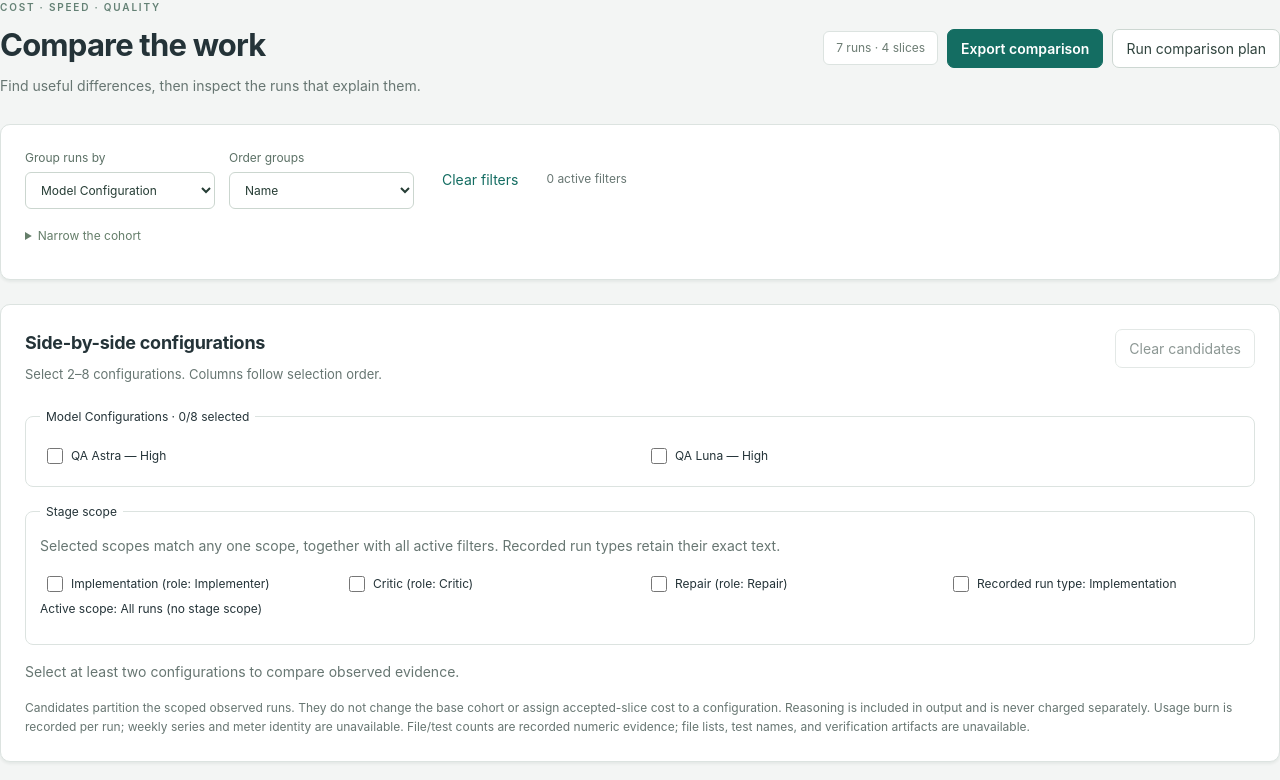
it: comparison UI uses shared cohort context › excludes nonmatching accepted slices, retains support cost, and exports the displayed context
Click the heading "Narrow the cohort": coordinates (89, 236) x1=38 y1=228 x2=141 y2=243
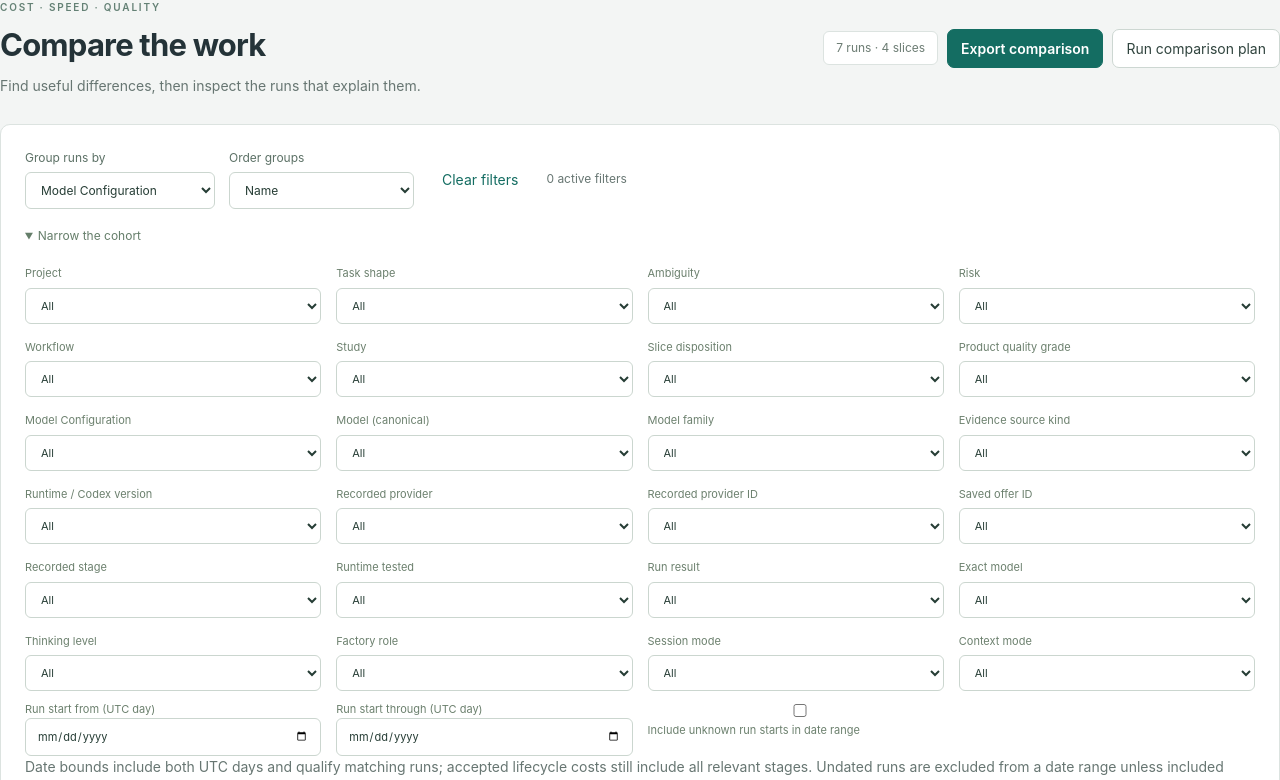
Select "QA Astra" in the dropdown named "Filter Exact model": coordinates (1107, 600) x1=959 y1=582 x2=1255 y2=618
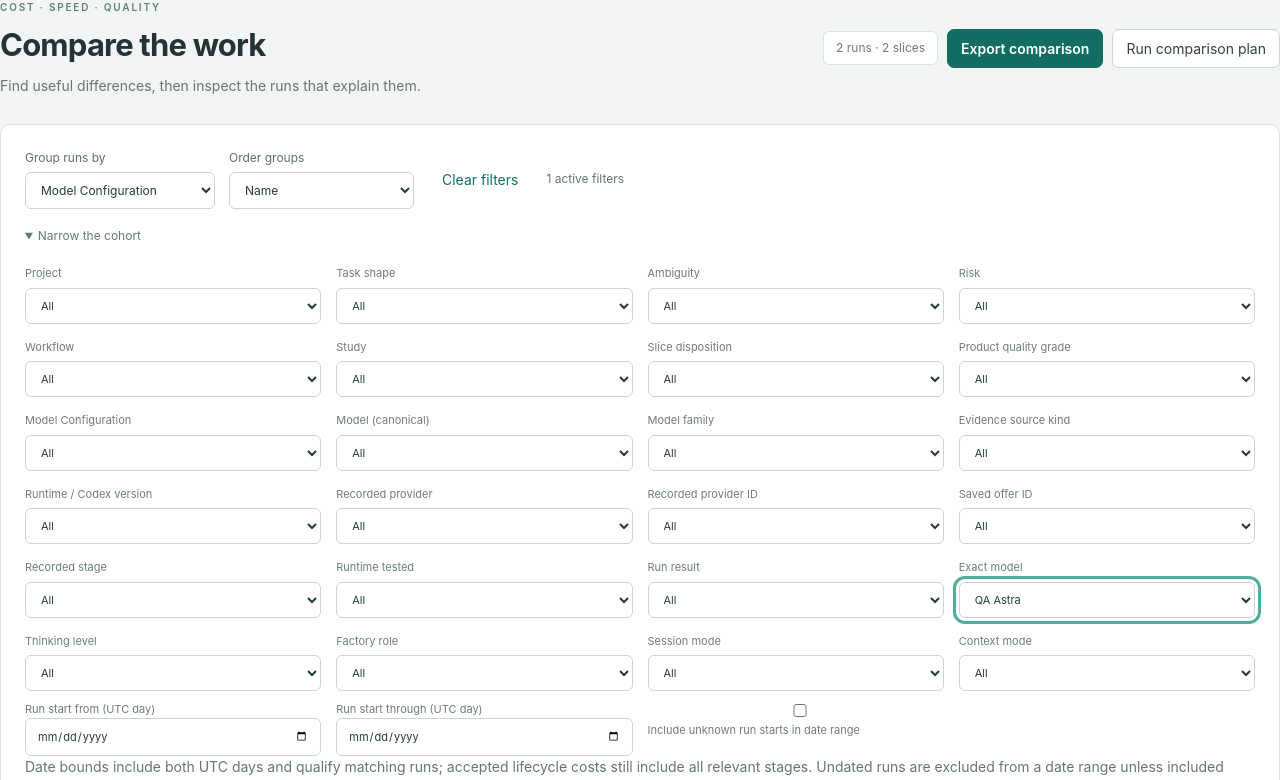
Select "Implementer" in the dropdown named "Filter Factory role": coordinates (484, 673) x1=336 y1=655 x2=633 y2=691
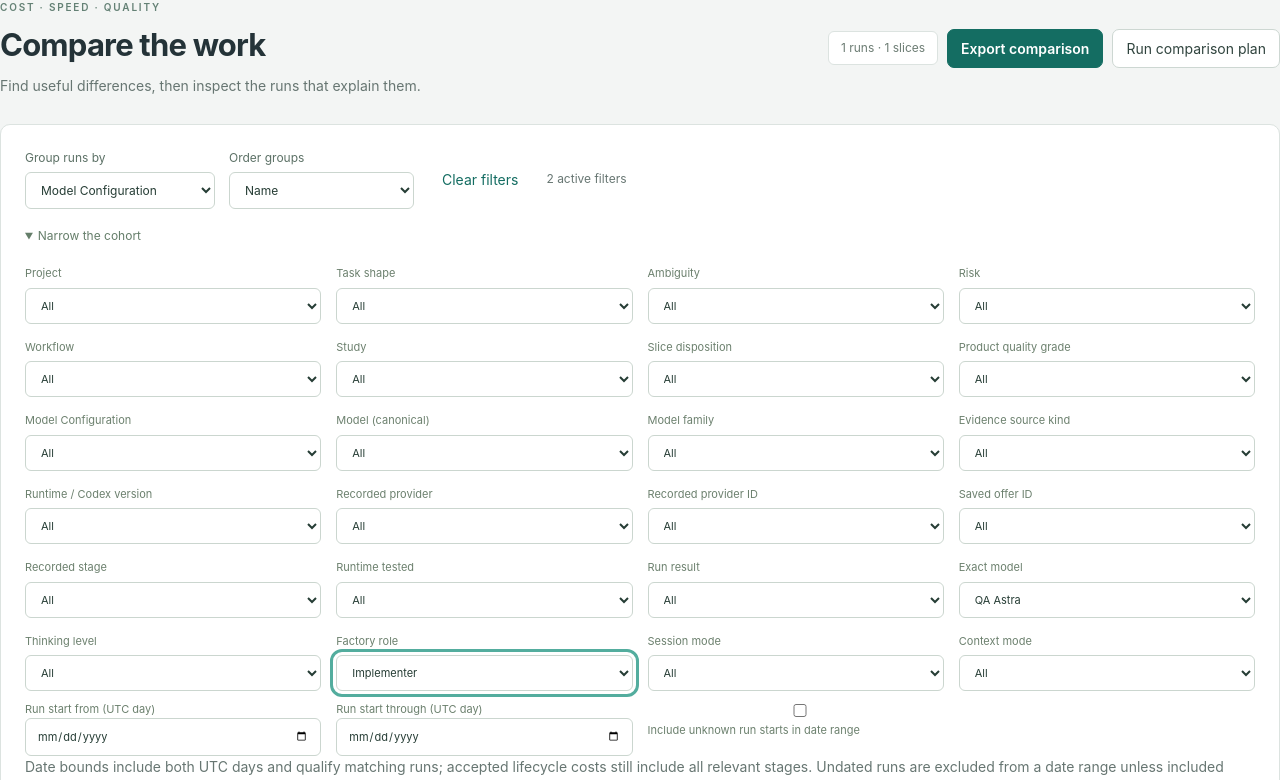
Select "Factory role" in the dropdown labelled "Group runs by": coordinates (120, 191) x1=25 y1=172 x2=215 y2=209
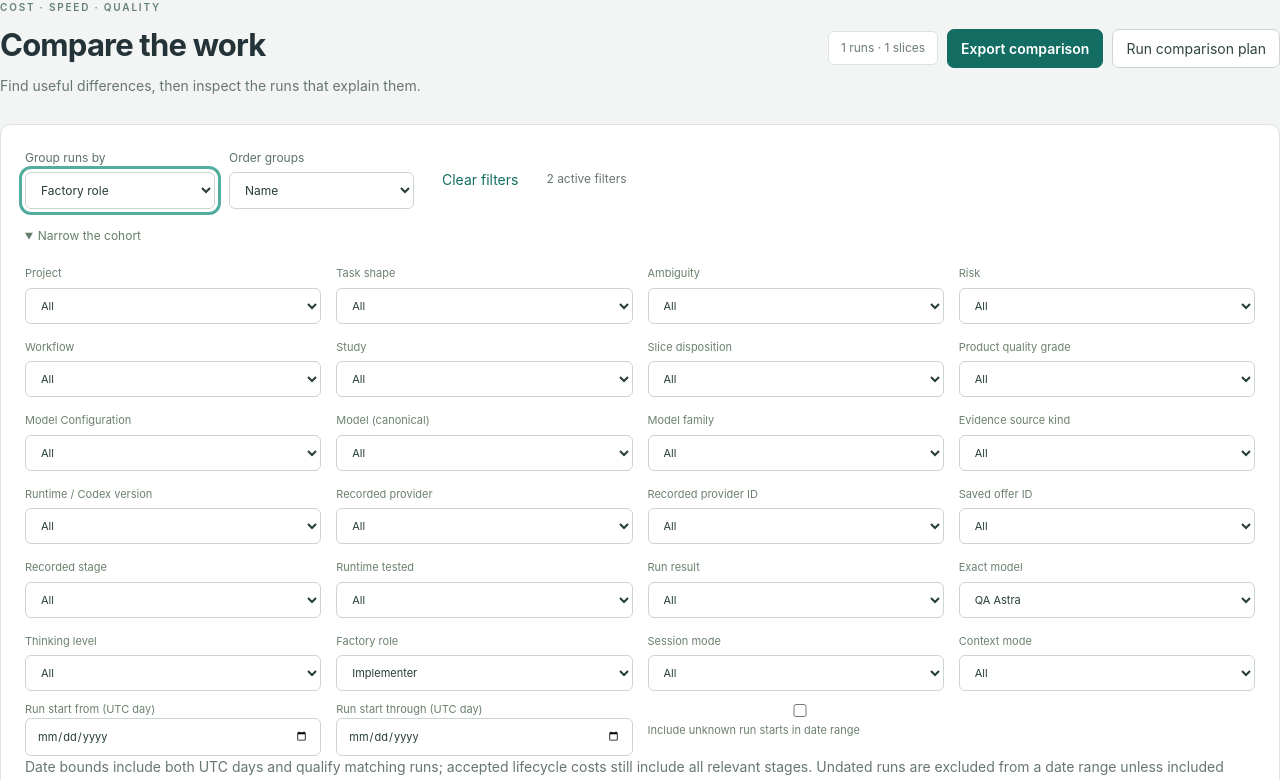
Select "Known cost, highest first" in the dropdown labelled "Order groups": coordinates (322, 191) x1=229 y1=172 x2=414 y2=209
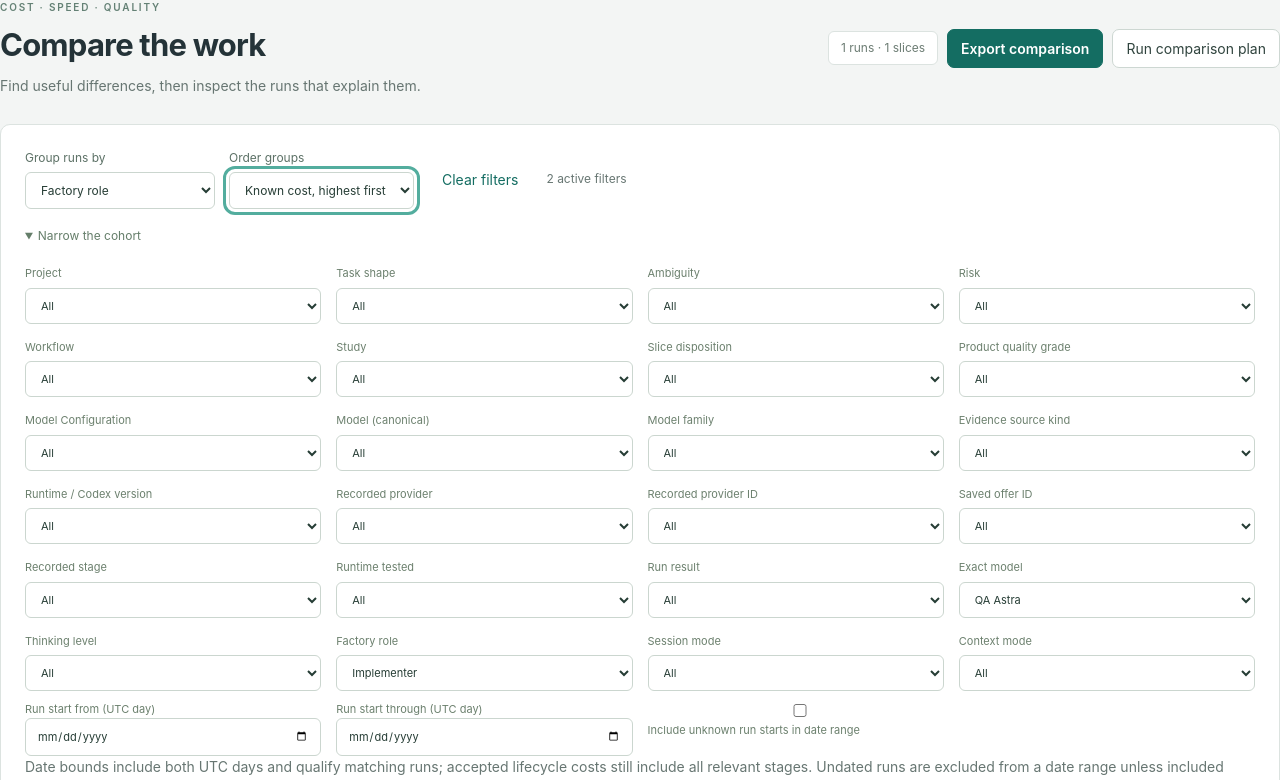
Click the button "Export comparison": coordinates (1025, 48) x1=947 y1=29 x2=1103 y2=68
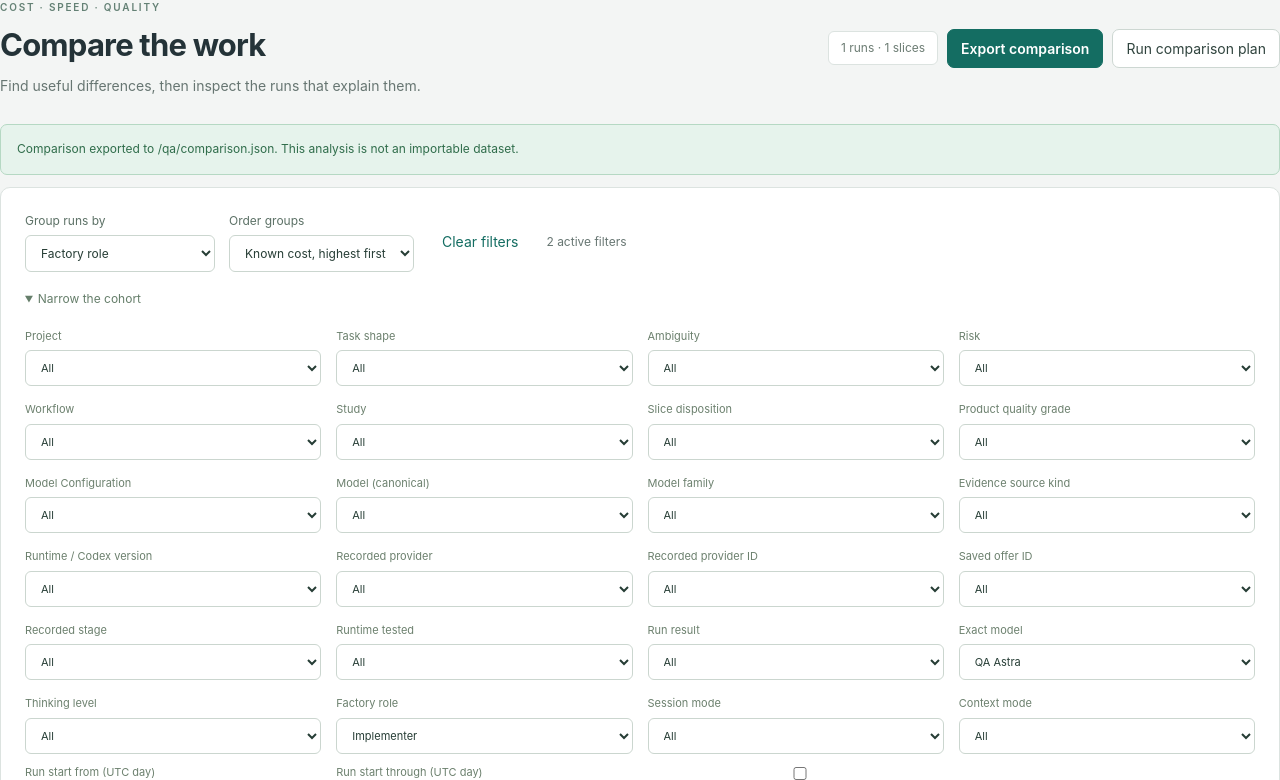
Expected: the message shows "not an importable dataset", x1=17 y1=141 x2=519 y2=156
